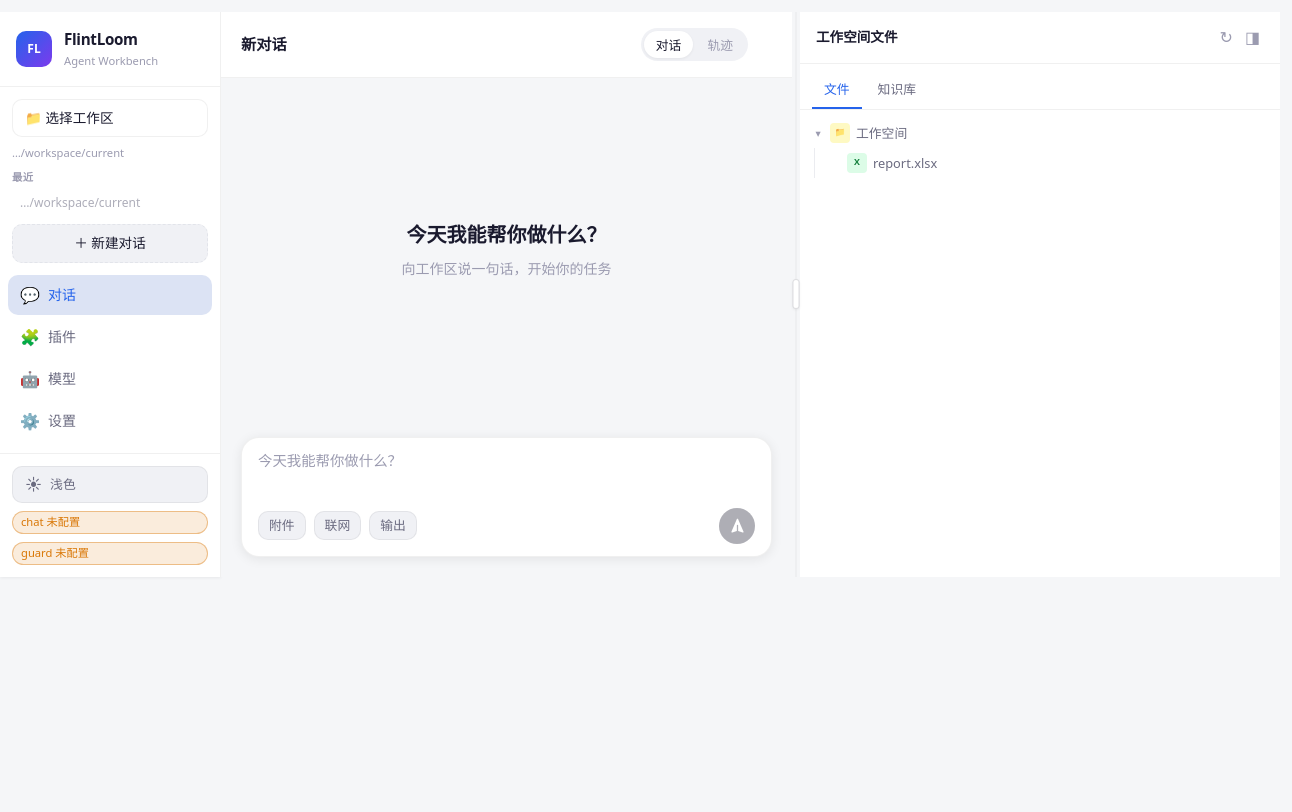
Test: App › renders spreadsheet files with fortune preview shell
This screenshot has width=1292, height=812.
Click the list item with class "file-label" at coordinates (905, 163), box x1=821 y1=148 x2=1276 y2=178
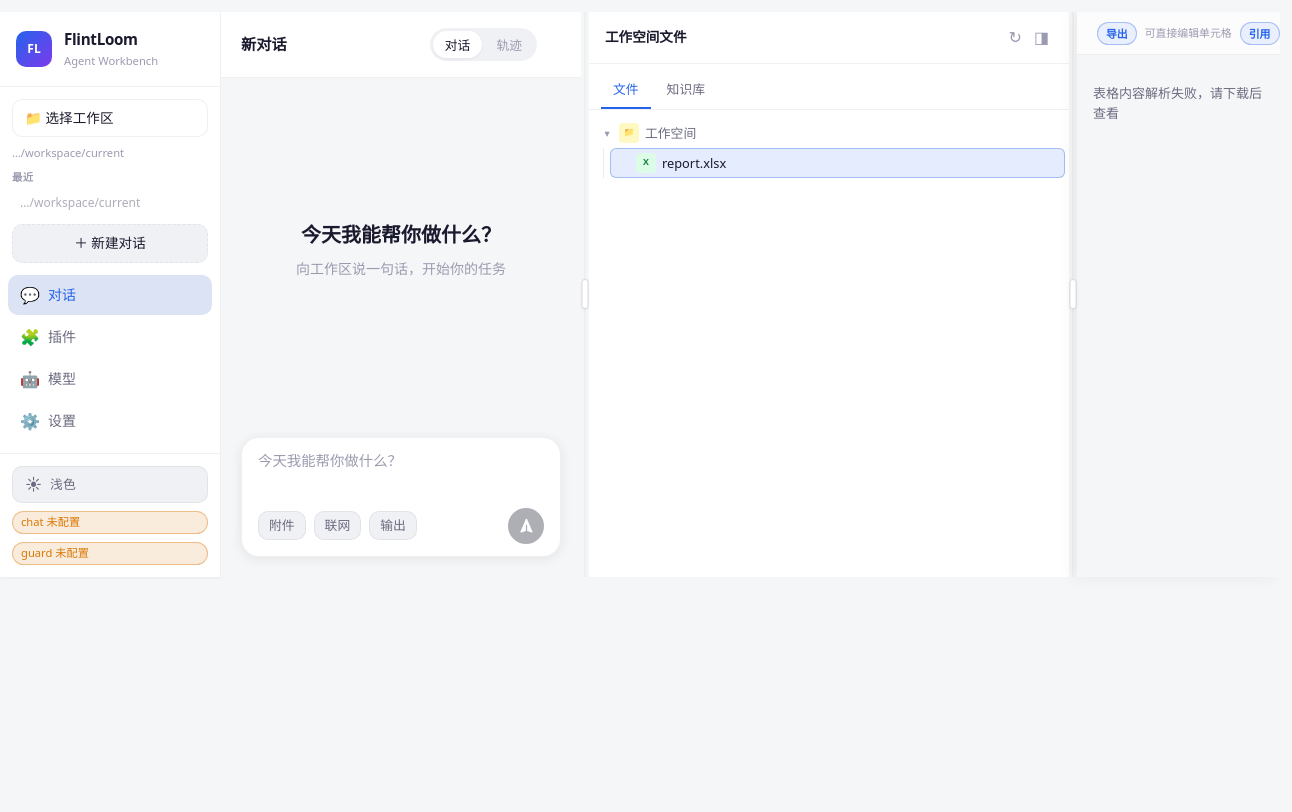
Result: the element with class "file-preview--spreadsheet" is shown at x1=1077 y1=12 x2=1280 y2=577
